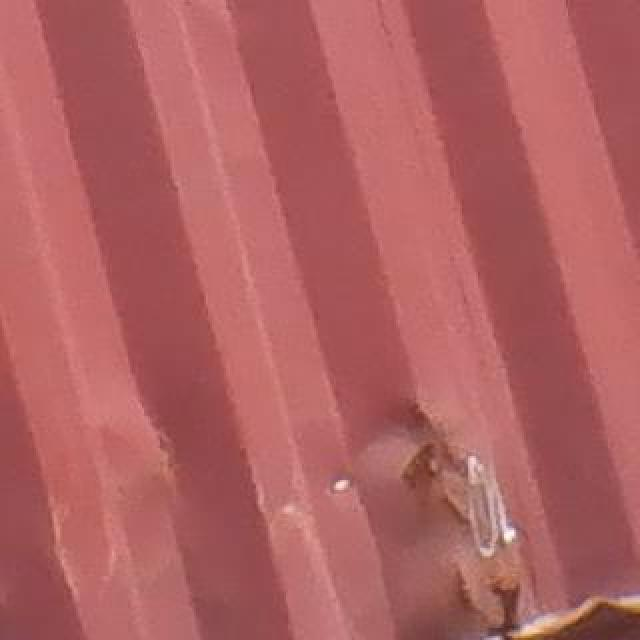dent: (271, 371, 575, 640), (39, 419, 207, 617)
